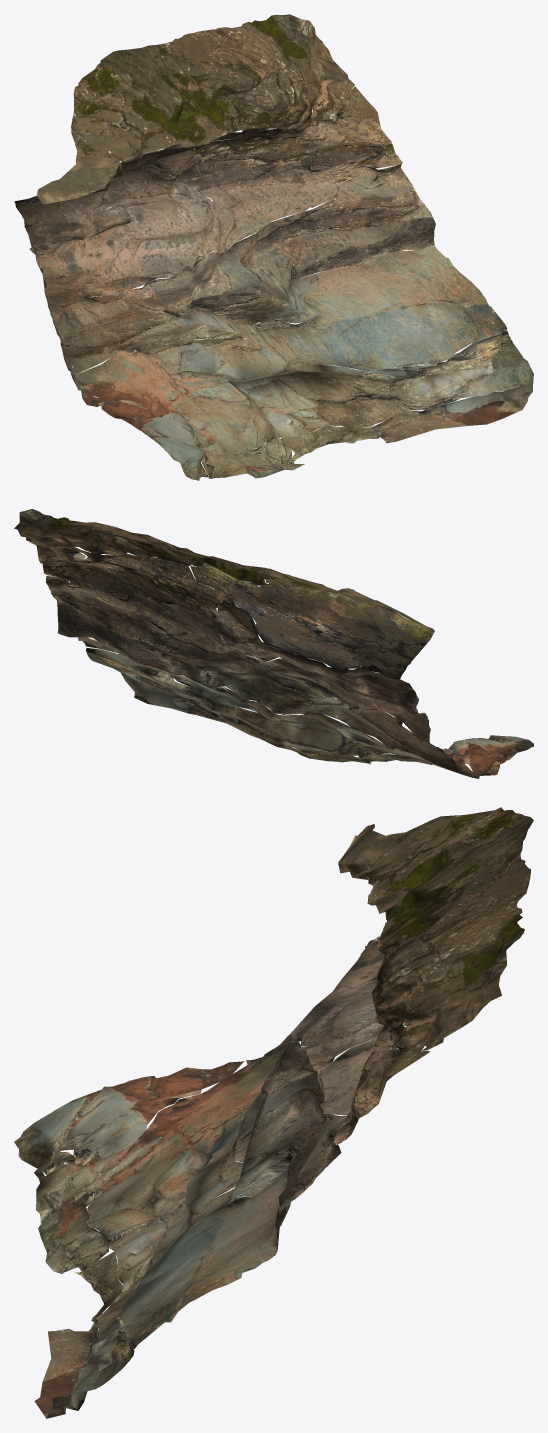
The model's file is rock_face_retro.glb.
The picture shows the model from 3 angles, top to bottom: view 1: azimuth 30°, elevation 25°; view 2: azimuth 150°, elevation 25°; view 3: azimuth 270°, elevation 25°; orthographic projection. The views are drawn at different scales.
Visible parts, largest first — view 1: rock_face_01; view 2: rock_face_01; view 3: rock_face_01.
Boxes of the visible parts, bbox=[...] form: rock_face_01: bbox=[14, 14, 533, 480]; rock_face_01: bbox=[14, 509, 533, 778]; rock_face_01: bbox=[14, 807, 533, 1418].
Size of the model in its own units: 4.95 by 3.57 by 3.83.
1 material, 1 textured.
